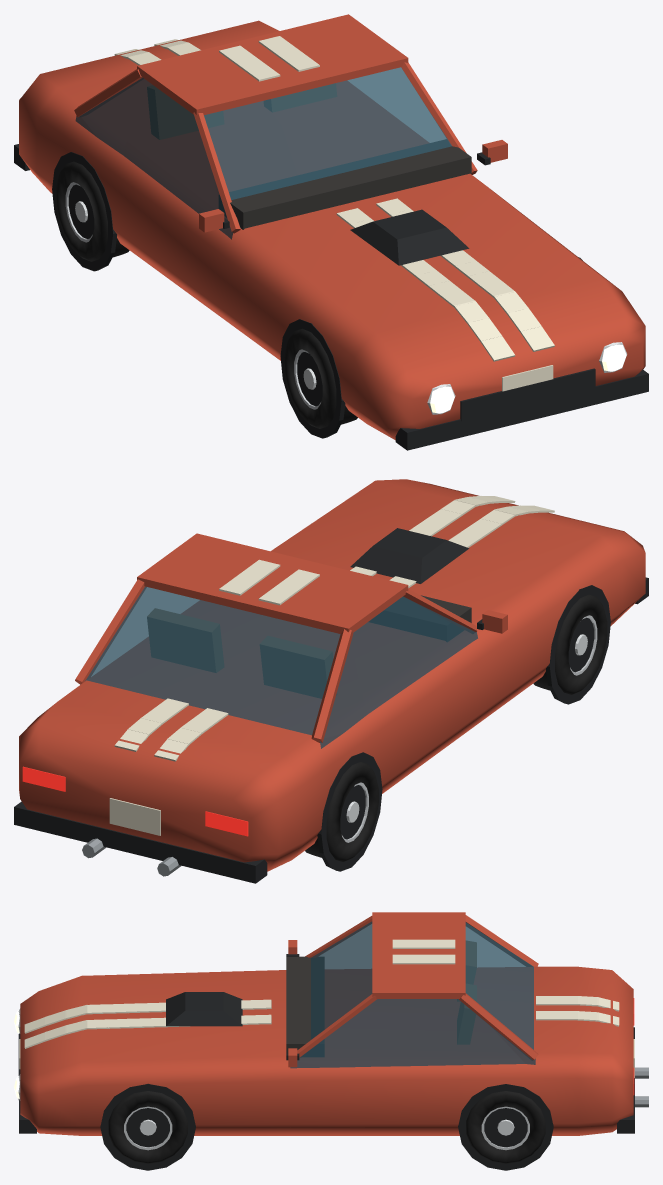
The model's file is maple-muscle.glb.
3 renders of one model, top to bottom at view 1: azimuth 30°, elevation 25°; view 2: azimuth 150°, elevation 25°; view 3: azimuth 270°, elevation 25°, orthographic. The views are drawn at different scales.
Parts seen in each view (by area): view 1: body, wheel_FR, wheel_RR, plate_F, headlight_R, headlight_L; view 2: body, wheel_RR, wheel_FR, plate_R, taillight_R, taillight_L; view 3: body, wheel_RL, wheel_FL.
Boxes of the visible parts, box(x1,y1,x2,y2) form: body: box(14, 14, 648, 450); wheel_FR: box(284, 328, 357, 428); wheel_RR: box(55, 161, 129, 261); plate_F: box(502, 365, 553, 391); headlight_R: box(427, 384, 455, 414); headlight_L: box(599, 342, 627, 372); body: box(14, 479, 648, 883); wheel_RR: box(305, 762, 378, 861); wheel_FR: box(533, 594, 607, 694); plate_R: box(109, 798, 160, 835); taillight_R: box(205, 811, 248, 836); taillight_L: box(22, 766, 65, 791); body: box(18, 912, 634, 1170); wheel_RL: box(466, 1091, 545, 1163); wheel_FL: box(108, 1091, 187, 1163).
Bounding box in the file's own units: 2.15 × 1.45 × 4.97.
